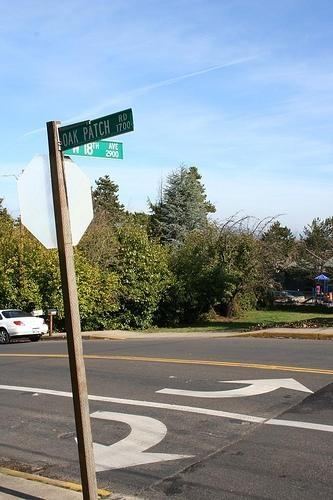car: (0, 310, 48, 344)
